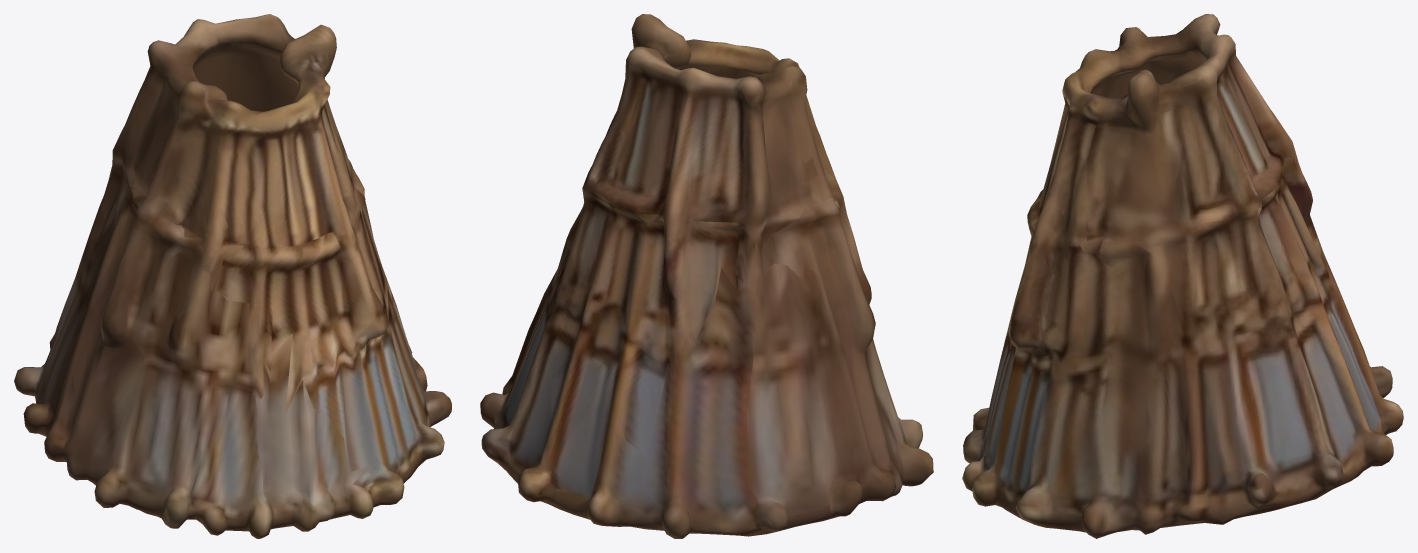
File: v21_covo_pesca.glb
The picture shows the model from 3 angles, left to right: view 1: azimuth 30°, elevation 25°; view 2: azimuth 150°, elevation 25°; view 3: azimuth 270°, elevation 25°; orthographic projection. The views are drawn at different scales.
Parts seen in each view (by area): view 1: v21_covo_pesca; view 2: v21_covo_pesca; view 3: v21_covo_pesca.
Part boxes in pixels (x1=…): v21_covo_pesca: x1=14, y1=14, x2=451, y2=538; v21_covo_pesca: x1=480, y1=14, x2=933, y2=538; v21_covo_pesca: x1=962, y1=14, x2=1403, y2=538.
Size of the model in its own units: 0.4182 by 0.4589 by 0.4195.
1 material, 1 textured.
